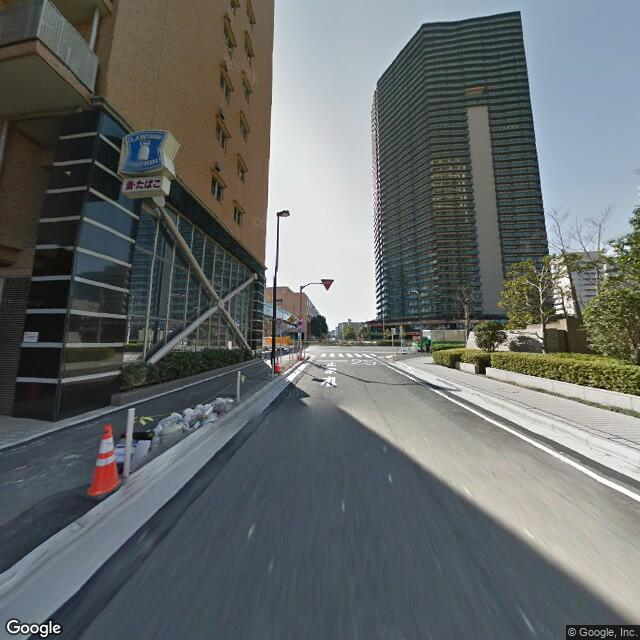lawson: (122, 124, 170, 177)
